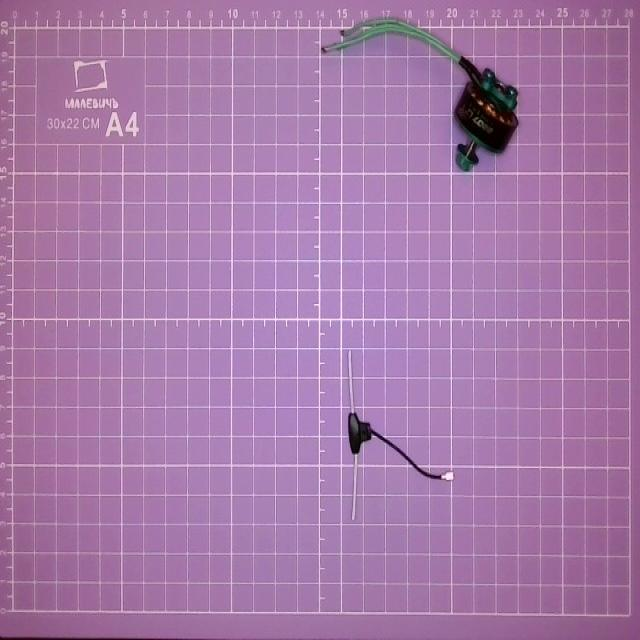antenna: (343, 343, 456, 521)
motor: (321, 15, 523, 172)
